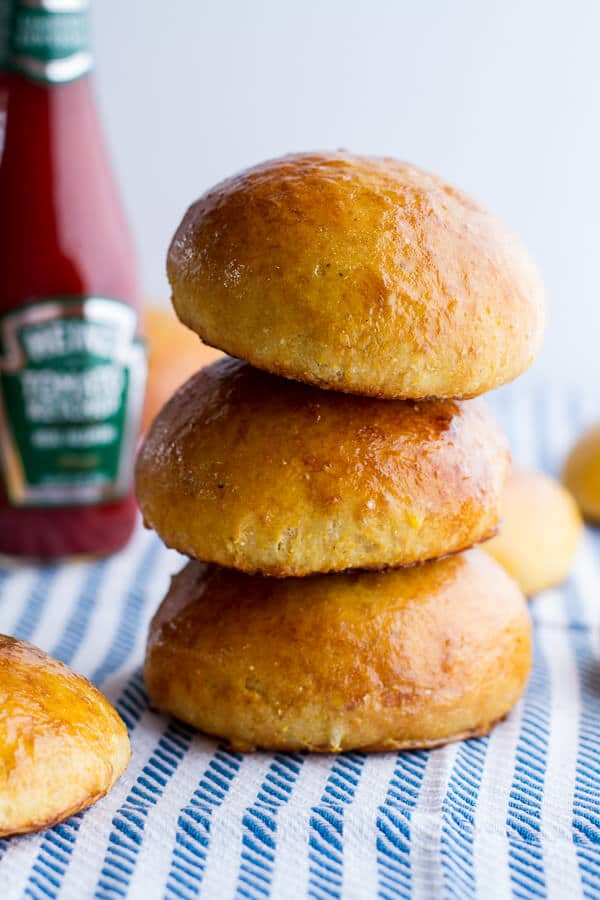hamburger_buns: (113, 117, 563, 417), (113, 508, 561, 768), (126, 354, 514, 574)
